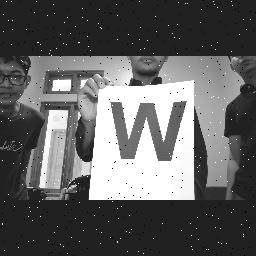w: (105, 95, 191, 165)
